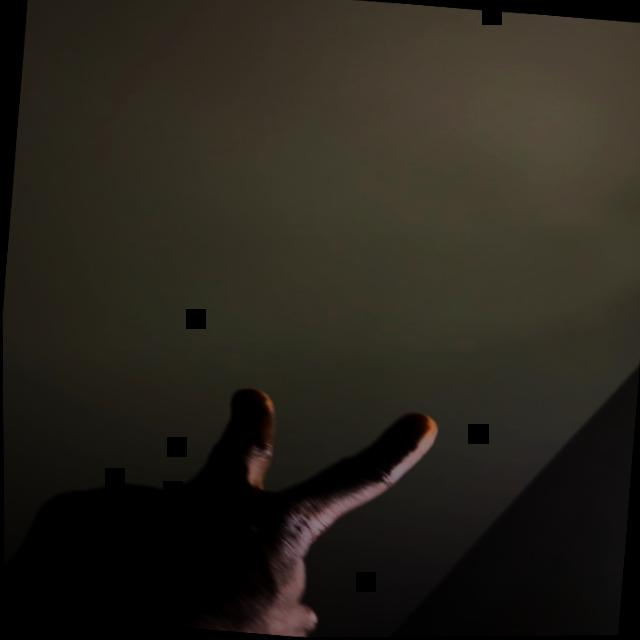Scissors: (2, 365, 444, 640)
